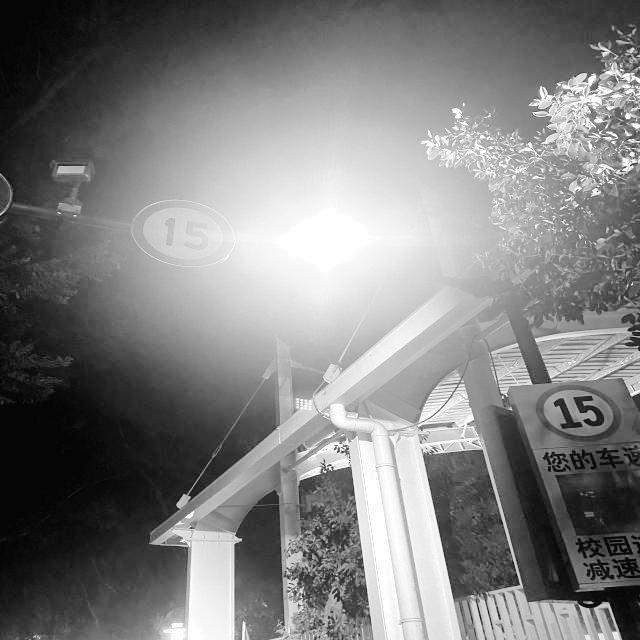Light: (280, 209, 367, 268)
